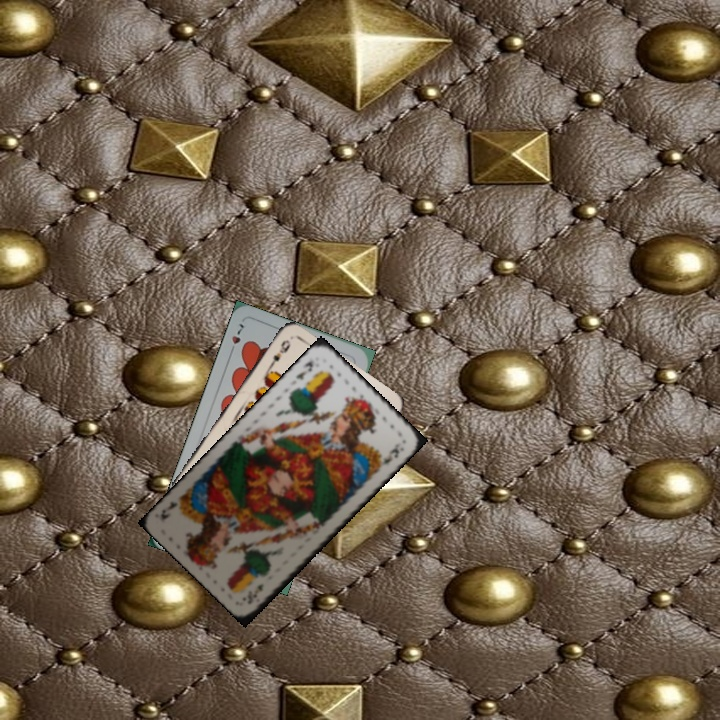E9: (264, 335, 293, 371)
EK: (243, 580, 267, 607), (291, 357, 316, 382)
H7: (225, 319, 246, 357)
